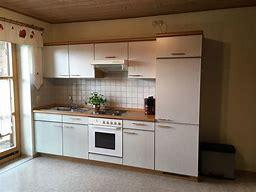cabinet_door: (156, 60, 200, 123), (155, 122, 198, 172), (122, 129, 155, 167), (130, 42, 156, 79), (156, 38, 202, 58), (35, 123, 63, 154), (42, 46, 69, 78), (63, 125, 89, 157), (69, 45, 94, 78), (95, 43, 128, 61), (123, 121, 153, 129), (34, 114, 62, 121), (63, 116, 89, 122)
handle: (90, 125, 120, 130), (158, 117, 174, 123), (155, 124, 173, 129), (132, 122, 148, 127), (170, 51, 186, 56), (123, 131, 138, 136), (51, 123, 63, 129), (129, 73, 142, 78), (69, 116, 81, 120), (64, 125, 75, 129), (105, 55, 116, 59), (59, 73, 70, 77), (71, 73, 81, 77)
